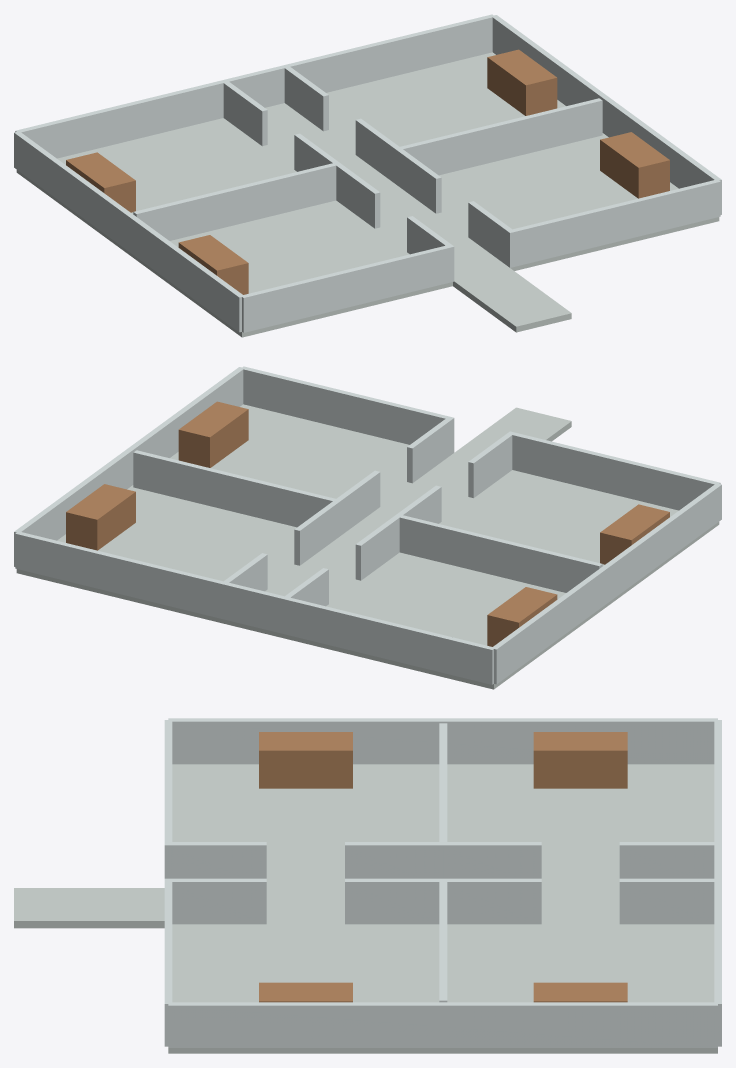
The model's file is release-gatehouse-cutaway.glb.
The picture shows the model from 3 angles, top to bottom: view 1: azimuth 30°, elevation 25°; view 2: azimuth 150°, elevation 25°; view 3: azimuth 270°, elevation 25°; orthographic projection. The views are drawn at different scales.
Visible parts, largest first — view 1: release-gatehouse/floor/cutaway.002, release-gatehouse/rear-wall/cutaway.002, release-gatehouse/outer--1/cutaway.002, release-gatehouse/entry-jamb--1/cutaway.002, release-gatehouse/entry-jamb-1/cutaway.002, release-gatehouse/room-divider--1/cutaway.002, release-gatehouse/room-divider-1/cutaway.002, release-gatehouse/outer-1/cutaway.002, release-gatehouse/portal-floor-0/cutaway.002, release-gatehouse/desk-3/cutaway.002, release-gatehouse/desk-1/cutaway.002, release-gatehouse/desk-0/cutaway.002 (+9 smaller); view 2: release-gatehouse/floor/cutaway.002, release-gatehouse/rear-wall/cutaway.002, release-gatehouse/outer--1/cutaway.002, release-gatehouse/entry-jamb-1/cutaway.002, release-gatehouse/entry-jamb--1/cutaway.002, release-gatehouse/room-divider--1/cutaway.002, release-gatehouse/room-divider-1/cutaway.002, release-gatehouse/outer-1/cutaway.002, release-gatehouse/desk-1/cutaway.002, release-gatehouse/desk-3/cutaway.002, release-gatehouse/portal-floor-0/cutaway.002, release-gatehouse/desk-2/cutaway.002 (+9 smaller); view 3: release-gatehouse/floor/cutaway.002, release-gatehouse/outer-1/cutaway.002, release-gatehouse/outer--1/cutaway.002, release-gatehouse/portal-floor-0/cutaway.002, release-gatehouse/desk-2/cutaway.002, release-gatehouse/desk-0/cutaway.002, release-gatehouse/corridor-1--1-a/cutaway.002, release-gatehouse/corridor-1--1-b/cutaway.002, release-gatehouse/corridor-1-1-a/cutaway.002, release-gatehouse/corridor-1-1-b/cutaway.002, release-gatehouse/corridor--1-1-a/cutaway.002, release-gatehouse/corridor--1--1-b/cutaway.002 (+9 smaller).
Part boxes in pixels (<box>): release-gatehouse/floor/cutaway.002: <box>16,52,719,337</box>; release-gatehouse/rear-wall/cutaway.002: <box>15,14,494,158</box>; release-gatehouse/outer--1/cutaway.002: <box>14,131,244,332</box>; release-gatehouse/entry-jamb--1/cutaway.002: <box>241,245,454,332</box>; release-gatehouse/entry-jamb-1/cutaway.002: <box>508,179,720,267</box>; release-gatehouse/room-divider--1/cutaway.002: <box>133,163,336,240</box>; release-gatehouse/room-divider-1/cutaway.002: <box>400,98,602,175</box>; release-gatehouse/outer-1/cutaway.002: <box>491,15,721,214</box>; release-gatehouse/portal-floor-0/cutaway.002: <box>453,267,571,332</box>; release-gatehouse/desk-3/cutaway.002: <box>487,49,557,115</box>; release-gatehouse/desk-1/cutaway.002: <box>600,132,669,198</box>; release-gatehouse/desk-0/cutaway.002: <box>178,235,248,294</box>; release-gatehouse/floor/cutaway.002: <box>16,404,719,689</box>; release-gatehouse/rear-wall/cutaway.002: <box>15,531,493,684</box>; release-gatehouse/outer--1/cutaway.002: <box>491,483,721,684</box>; release-gatehouse/entry-jamb-1/cutaway.002: <box>241,366,454,454</box>; release-gatehouse/entry-jamb--1/cutaway.002: <box>509,431,720,510</box>; release-gatehouse/room-divider--1/cutaway.002: <box>399,515,602,592</box>; release-gatehouse/room-divider-1/cutaway.002: <box>133,450,335,527</box>; release-gatehouse/outer-1/cutaway.002: <box>14,367,243,566</box>; release-gatehouse/desk-1/cutaway.002: <box>178,401,248,467</box>; release-gatehouse/desk-3/cutaway.002: <box>66,484,135,550</box>; release-gatehouse/portal-floor-0/cutaway.002: <box>453,407,571,458</box>; release-gatehouse/desk-2/cutaway.002: <box>487,587,557,646</box>; release-gatehouse/floor/cutaway.002: <box>168,764,717,1053</box>; release-gatehouse/outer-1/cutaway.002: <box>168,1002,717,1047</box>; release-gatehouse/outer--1/cutaway.002: <box>168,718,717,764</box>; release-gatehouse/portal-floor-0/cutaway.002: <box>14,888,164,928</box>; release-gatehouse/desk-2/cutaway.002: <box>533,732,627,788</box>; release-gatehouse/desk-0/cutaway.002: <box>259,732,352,788</box>; release-gatehouse/corridor-1--1-a/cutaway.002: <box>619,878,714,924</box>; release-gatehouse/corridor-1--1-b/cutaway.002: <box>443,878,541,924</box>; release-gatehouse/corridor-1-1-a/cutaway.002: <box>345,878,443,924</box>; release-gatehouse/corridor-1-1-b/cutaway.002: <box>168,878,266,924</box>; release-gatehouse/corridor--1-1-a/cutaway.002: <box>345,842,443,878</box>; release-gatehouse/corridor--1--1-b/cutaway.002: <box>443,842,541,878</box>.
Size of the model in its own units: 13.02 by 1.05 by 13.56.
